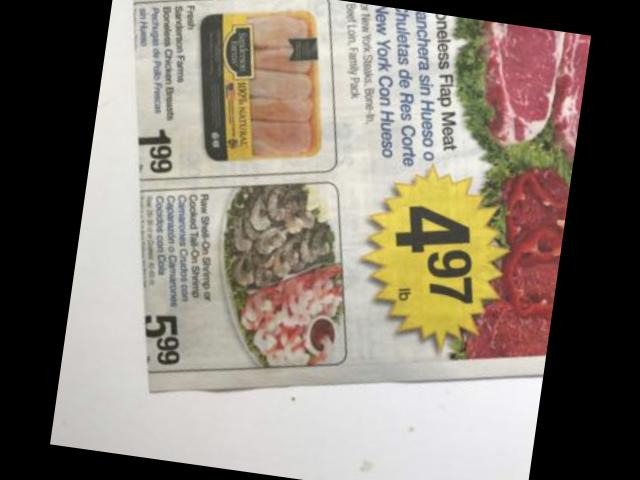cardboard paper: (135, 0, 591, 389)
